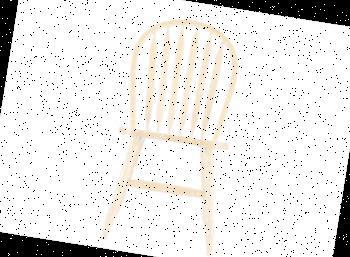Silla: (98, 10, 251, 256)
